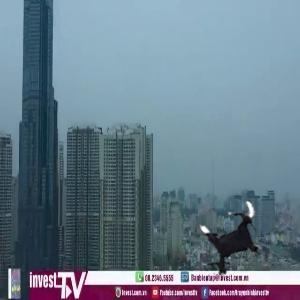drone: (186, 194, 275, 283)
